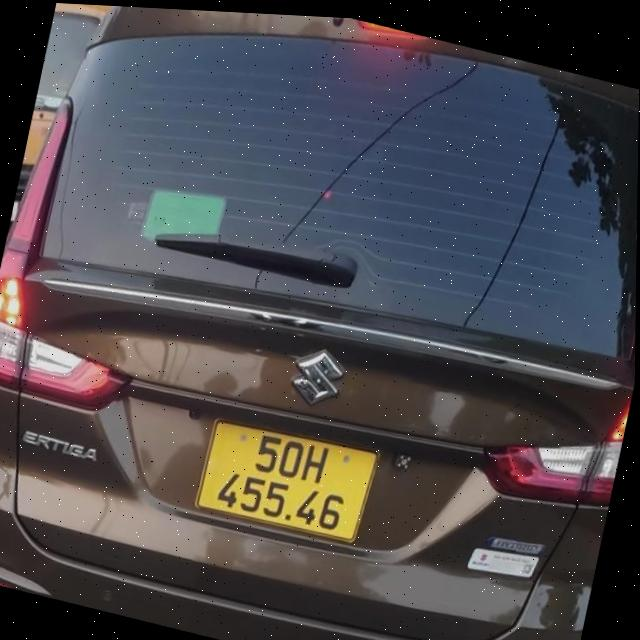car: (0, 0, 640, 640)
plate: (188, 413, 385, 553)
